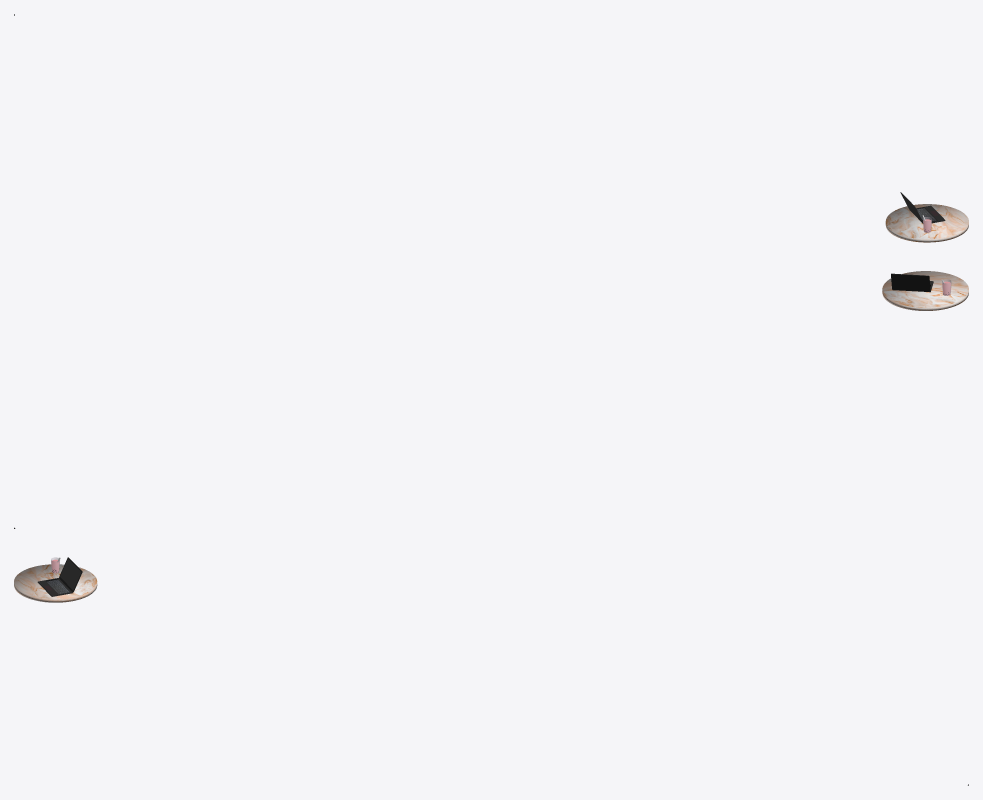
3 renders of one model, top to bottom at view 1: azimuth 90°, elevation 25°; view 2: azimuth 150°, elevation 25°; view 3: azimuth 270°, elevation 25°, orthographic. The views are drawn at different scales.
Parts seen in each view (by area): view 1: Cylinder; view 2: Cylinder, laptop; view 3: Cylinder, laptop.
Part boxes in pixels (x1=…): Cylinder: x1=885, y1=204, x2=968, y2=242; Cylinder: x1=882, y1=271, x2=968, y2=310; laptop: x1=891, y1=273, x2=933, y2=292; Cylinder: x1=14, y1=564, x2=97, y2=602; laptop: x1=37, y1=557, x2=82, y2=596.
Bounding box in the file's own units: 289 × 14.1 × 523.
Materials: 12 (2 with a texture image).
